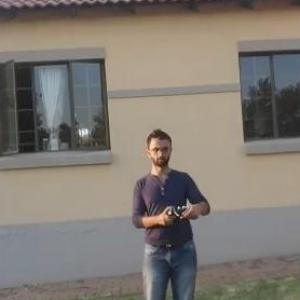follow: (124, 121, 218, 299)
